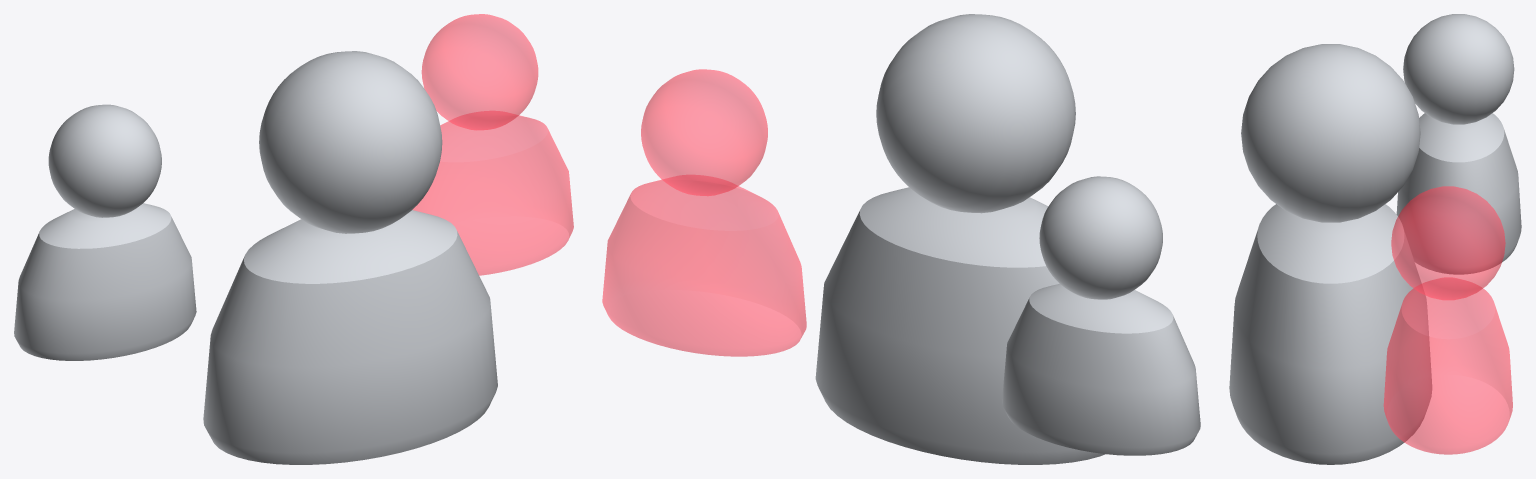
Rendered from 22-team.glb.
3 renders of one model, left to right at view 1: azimuth 30°, elevation 25°; view 2: azimuth 150°, elevation 25°; view 3: azimuth 270°, elevation 25°, orthographic. The views are drawn at different scales.
Parts seen in each view (by area): view 1: BC satin silver metal, BC ruby optical glass; view 2: BC satin silver metal, BC ruby optical glass; view 3: BC satin silver metal, BC ruby optical glass.
Part boxes in pixels (<box>): BC satin silver metal: <box>14,51,497,464</box>; BC ruby optical glass: <box>412,14,573,275</box>; BC satin silver metal: <box>815,14,1200,464</box>; BC ruby optical glass: <box>602,69,806,356</box>; BC satin silver metal: <box>1229,14,1521,464</box>; BC ruby optical glass: <box>1383,186,1512,454</box>.
Bounding box in the file's own units: 1.78 × 1.12 × 0.8458.
